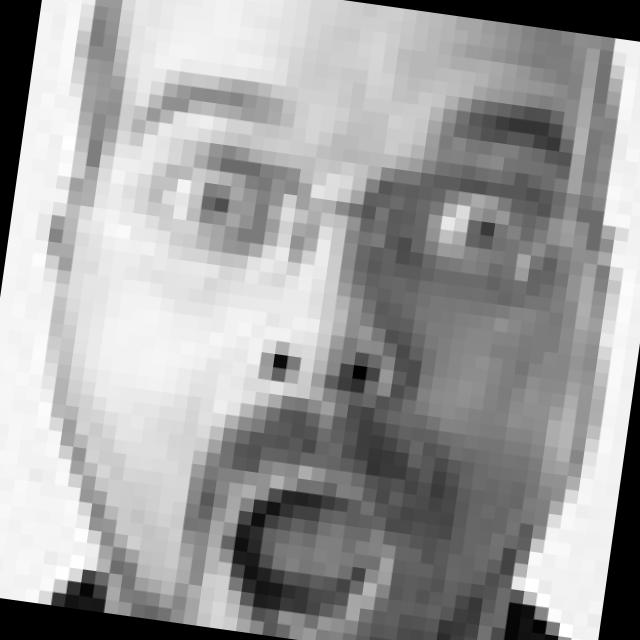surprise: (75, 59, 586, 640)
